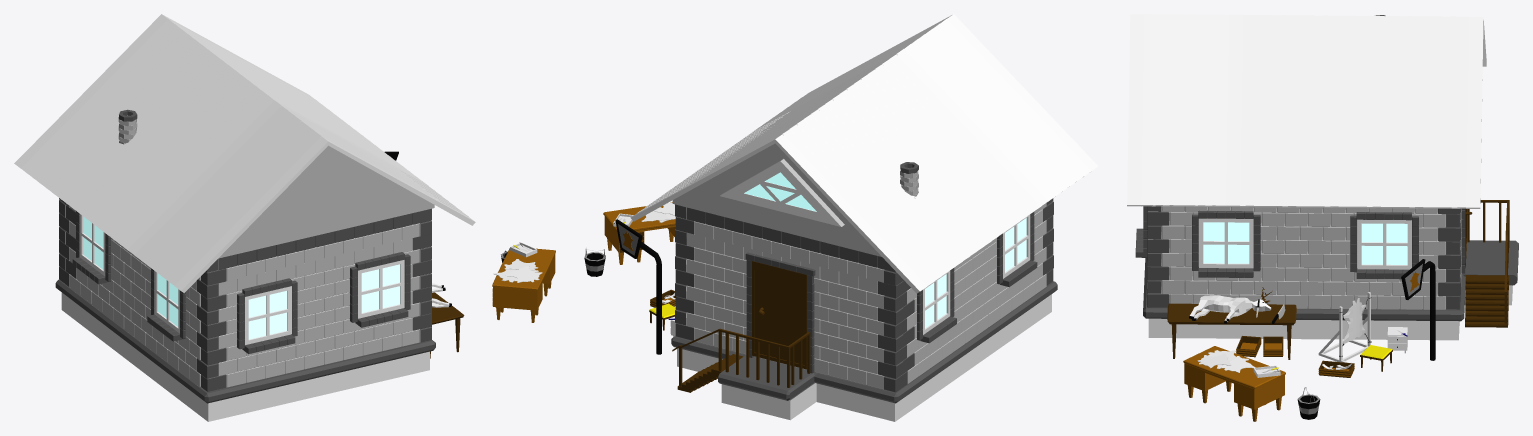
File: house3.glb
3 views of the same model, side by side, from view 1: azimuth 30°, elevation 25°; view 2: azimuth 150°, elevation 25°; view 3: azimuth 270°, elevation 25° (orthographic). The views are drawn at different scales.
Parts seen in each view (by area): view 1: Tanner, Table.002, skin, Table.001; view 2: Tanner, Table.002, tanner sign, bucket.001; view 3: Tanner, Table.002, Table.001, box.003, skin, deer, tanner sign, Workbench.001, bucket.001, bedside table, stool.
Part boxes in pixels (box(x1,y1,x2,y2)): Tanner: box(14, 14, 475, 421); Table.002: box(492, 248, 555, 322); skin: box(494, 259, 542, 282); Table.001: box(430, 292, 464, 358); Tanner: box(631, 14, 1098, 421); Table.002: box(603, 202, 675, 264); tanner sign: box(615, 219, 661, 354); bucket.001: box(584, 248, 605, 276); Tanner: box(1127, 14, 1518, 340); Table.002: box(1183, 346, 1285, 421); Table.001: box(1167, 303, 1296, 359); box.003: box(1236, 336, 1354, 377); skin: box(1197, 298, 1365, 372); deer: box(1189, 287, 1272, 323); tanner sign: box(1401, 259, 1435, 360); Workbench.001: box(1318, 292, 1371, 362); bucket.001: box(1297, 387, 1320, 419); bedside table: box(1387, 327, 1407, 353); stool: box(1360, 345, 1392, 371).
Bounding box in the file's own units: 33.48 × 19.63 × 25.55.
